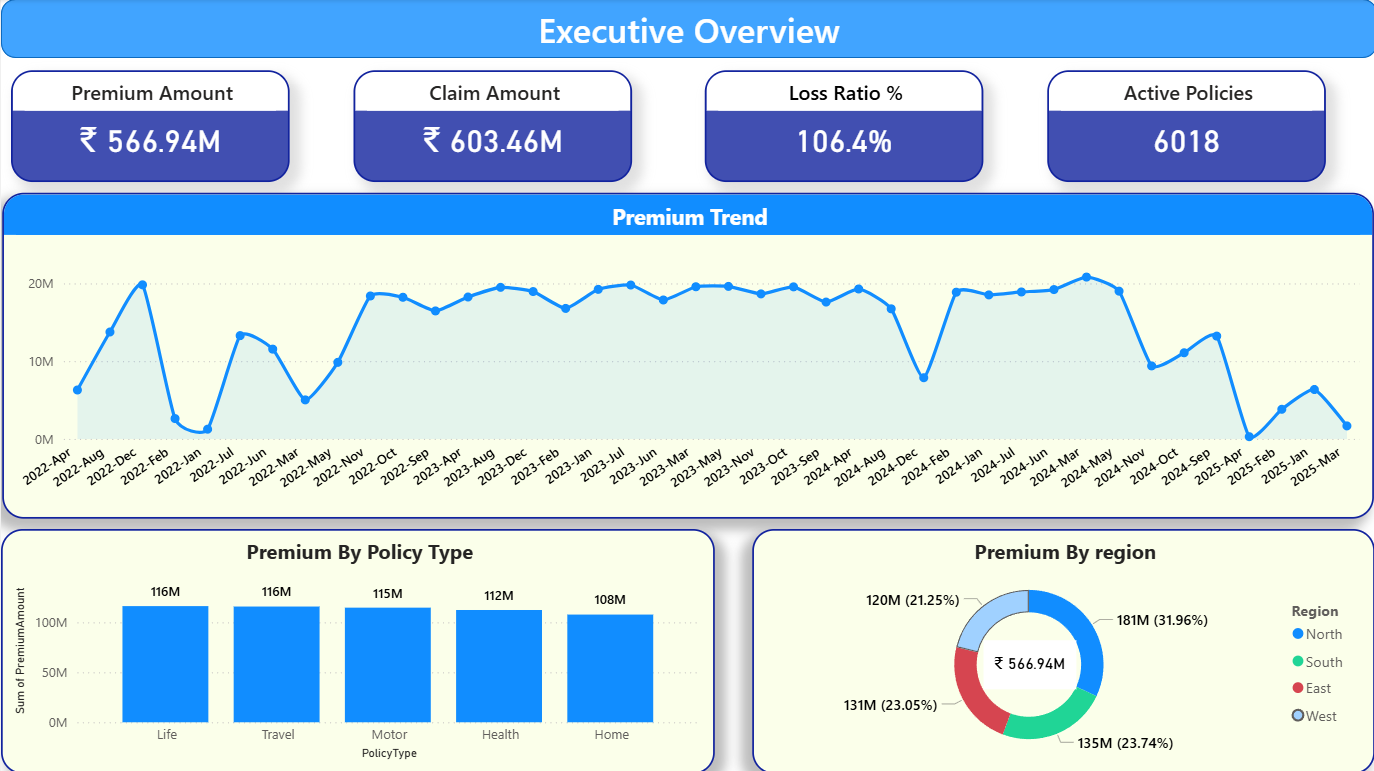

This screenshot's page, from the dashboard's own definition file:
{"tool":"powerbi","page":{"name":"Executive Overview ","canvas":[1280,720],"ordinal":0},"visuals":[{"type":"card","title":"Premium Amount ","fields":{"Values":["Fact_Claims.TotalPremium"]},"box":[9.6,65.9,259.3,104.3],"z":0},{"type":"card","title":"Claim Amount","fields":{"Values":["Fact_Claims.Total Claims"]},"box":[328,65.9,259.3,104.3],"z":1000},{"type":"card","title":"Loss Ratio %","fields":{"Values":["Fact_Claims.Loss Ratio"]},"box":[654.5,65.9,259.3,104.3],"z":2000},{"type":"card","title":"Active Policies ","fields":{"Values":["Fact_Policies.ActivePolicies"]},"box":[972.9,65.9,259.3,104.3],"z":3000},{"type":"lineChart","title":"Premium Trend ","fields":{"Y":["Sum(Fact_Premiums.PremiumAmount)"],"Category":["Fact_Premiums.Year-Month"]},"box":[1.4,179.8,1276.2,303.3],"z":4000},{"type":"clusteredColumnChart","title":"Premium By Policy Type","fields":{"Y":["Sum(Fact_Premiums.PremiumAmount)"],"Category":["Dim_Policy.PolicyType"]},"box":[0,492.6,664.2,227.8],"z":5000},{"type":"donutChart","title":"Premium By region ","fields":{"Category":["Dim_Agent.Region"],"Y":["Sum(Fact_Premiums.PremiumAmount)"]},"box":[698.5,492.6,579.1,227.8],"z":6000},{"type":"shape","box":[0,0,1280.3,54.9],"z":7000},{"type":"card","title":"Premium Amount ","fields":{"Values":["Fact_Claims.TotalPremium"]},"box":[914,596.5,86,45.3],"z":8000}]}

Visuals, with their boxes in screenshot pixels (x1, y1, x2, y2), scaled from the page's 1280x720 canvas onto the 1374x771 screenshot:
"Premium Amount " card: bbox=[10, 71, 289, 182]
"Claim Amount" card: bbox=[352, 71, 630, 182]
"Loss Ratio %" card: bbox=[703, 71, 981, 182]
"Active Policies " card: bbox=[1044, 71, 1323, 182]
"Premium Trend " lineChart: bbox=[2, 193, 1371, 517]
"Premium By Policy Type" clusteredColumnChart: bbox=[0, 527, 713, 770]
"Premium By region " donutChart: bbox=[750, 527, 1371, 770]
shape: bbox=[0, 0, 1373, 59]
"Premium Amount " card: bbox=[981, 639, 1073, 687]
